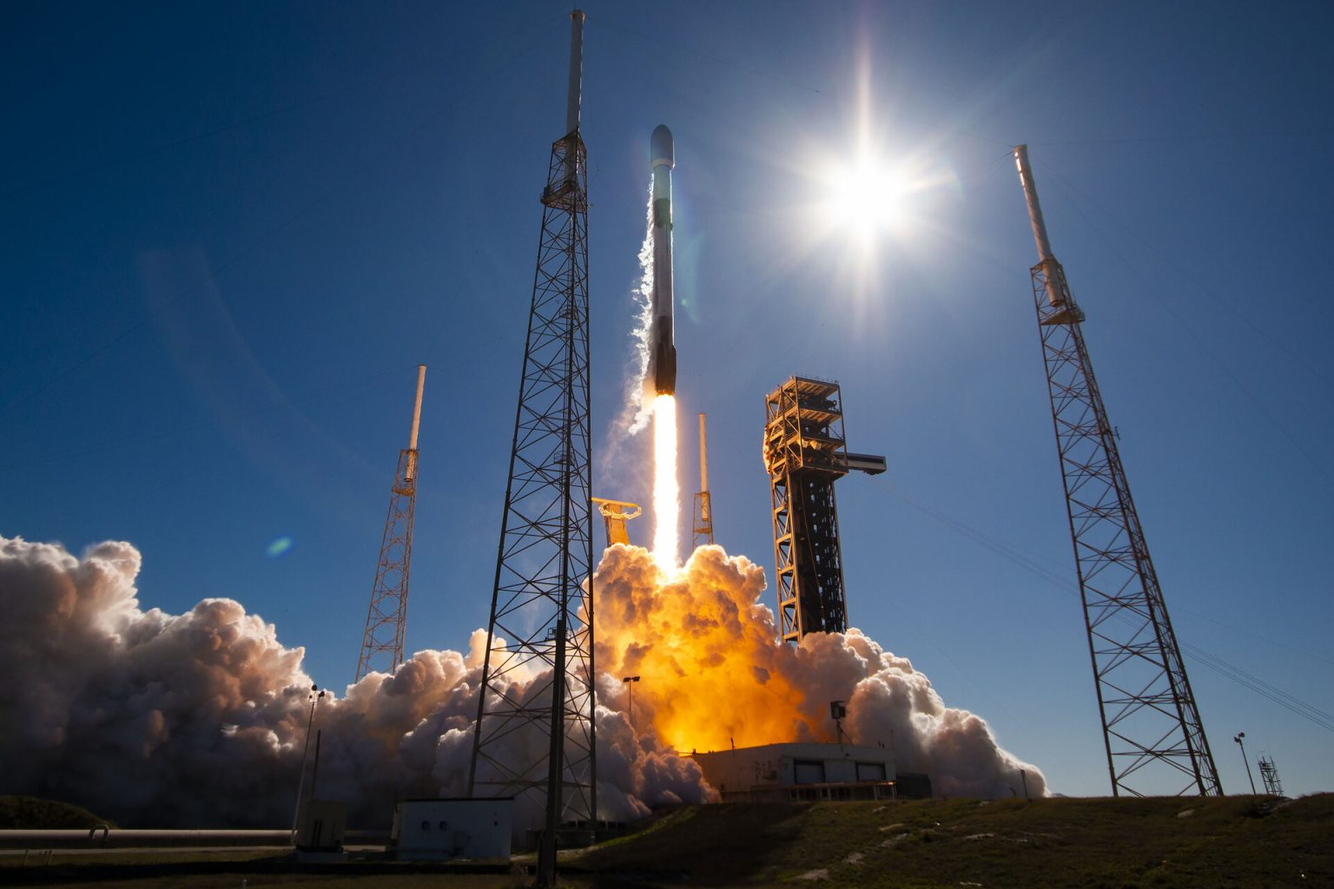falcon: (638, 117, 684, 401)
